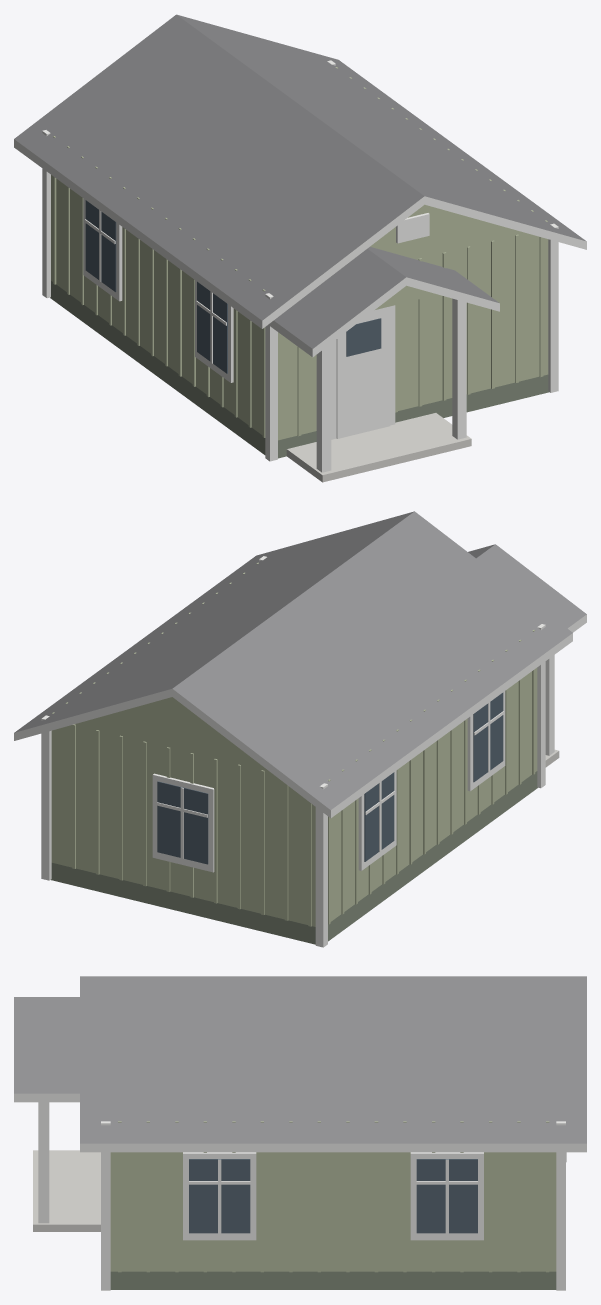
The model's file is apricot-sage.glb.
3 views of the same model, one above another, from view 1: azimuth 30°, elevation 25°; view 2: azimuth 150°, elevation 25°; view 3: azimuth 270°, elevation 25° (orthographic). The views are drawn at different scales.
Parts seen in each view (by area): view 1: The Apricot (sage); view 2: The Apricot (sage); view 3: The Apricot (sage).
Part boxes in pixels (left/top/right/bottom): The Apricot (sage): left=14, top=14, right=586, bottom=482; The Apricot (sage): left=14, top=511, right=586, bottom=947; The Apricot (sage): left=14, top=976, right=586, bottom=1290.
Size of the model in its own units: 5.64 by 3.96 by 8.44.
